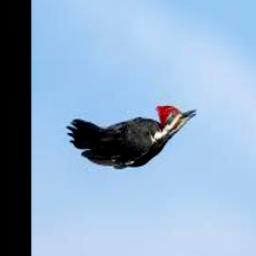Woodpecker: (65, 105, 196, 167)
